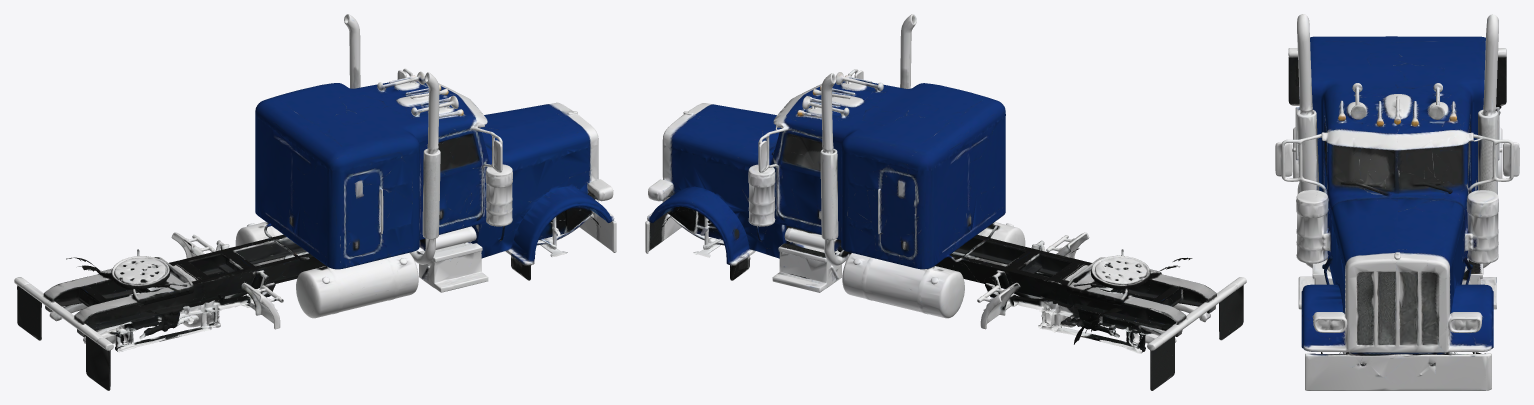
The model's file is semi.glb.
3 views of the same model, side by side, from view 1: azimuth 30°, elevation 25°; view 2: azimuth 150°, elevation 25°; view 3: azimuth 270°, elevation 25° (orthographic). The views are drawn at different scales.
Parts seen in each view (by area): view 1: semi-body; view 2: semi-body; view 3: semi-body.
Boxes of the visible parts, x1,y1,x2,y2 form: semi-body: (14, 14, 616, 390); semi-body: (645, 14, 1246, 390); semi-body: (1275, 14, 1519, 390).
Bounding box in the file's own units: 8.06 × 3.5 × 2.78.
1 material, 1 textured.
